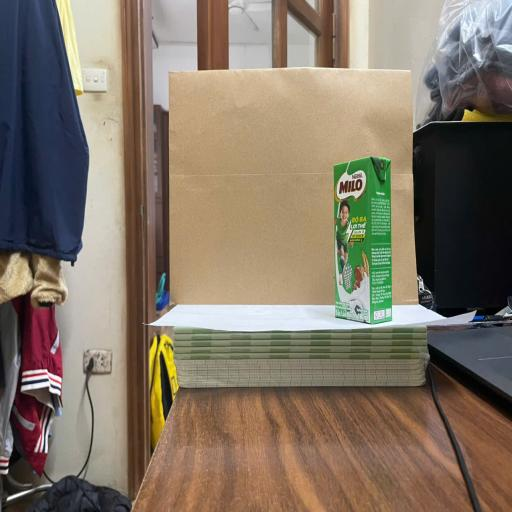milo: (334, 157, 392, 324)
